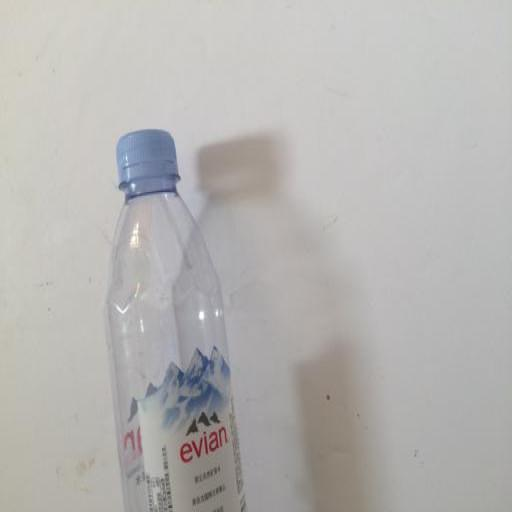waste: (100, 118, 248, 512)
